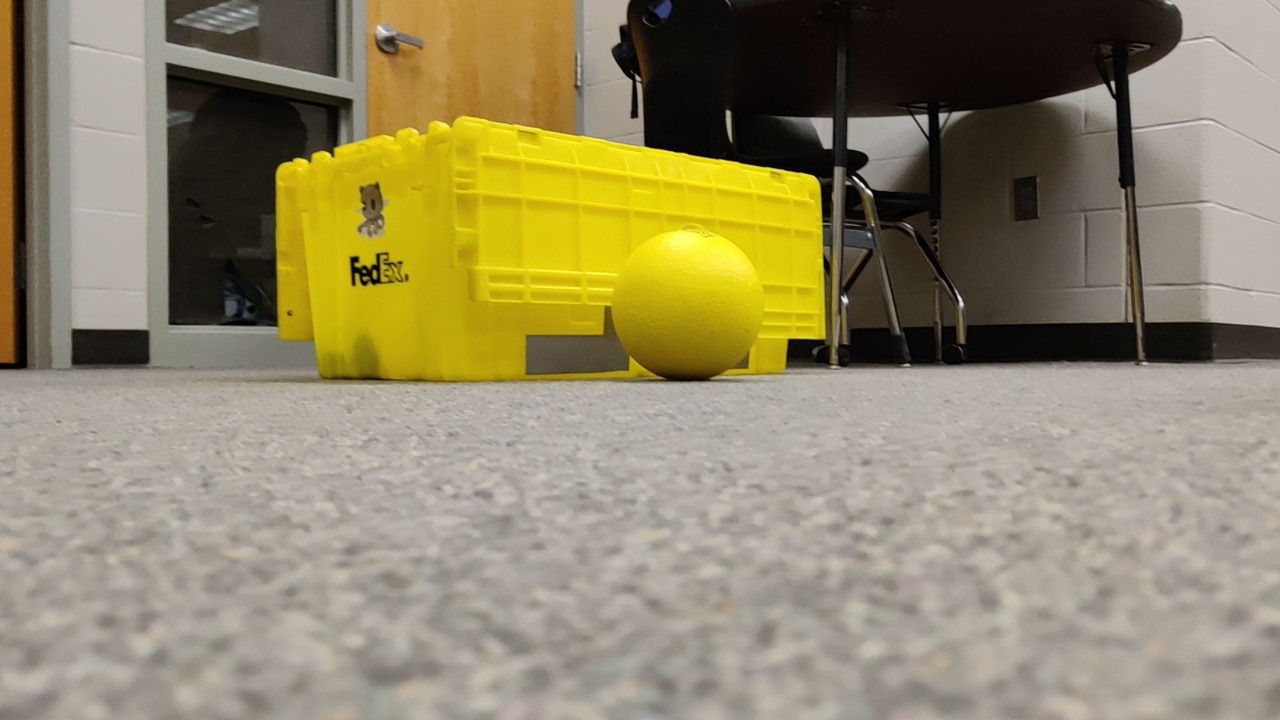Ball: (610, 227, 782, 384)
